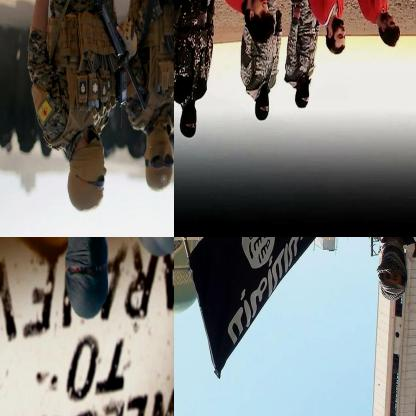pistol: (204, 0, 219, 19)
rifle: (69, 0, 149, 114), (152, 0, 173, 104), (410, 237, 415, 378)
